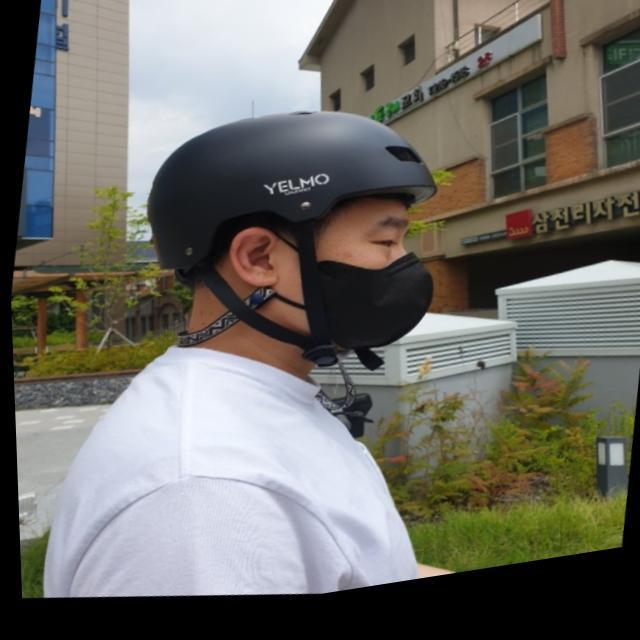Helmet: (142, 94, 432, 361)
